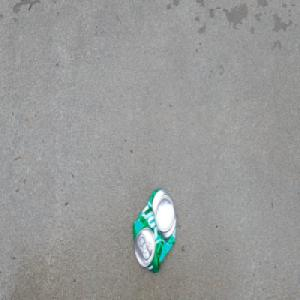SodaCan: (131, 185, 178, 275)
